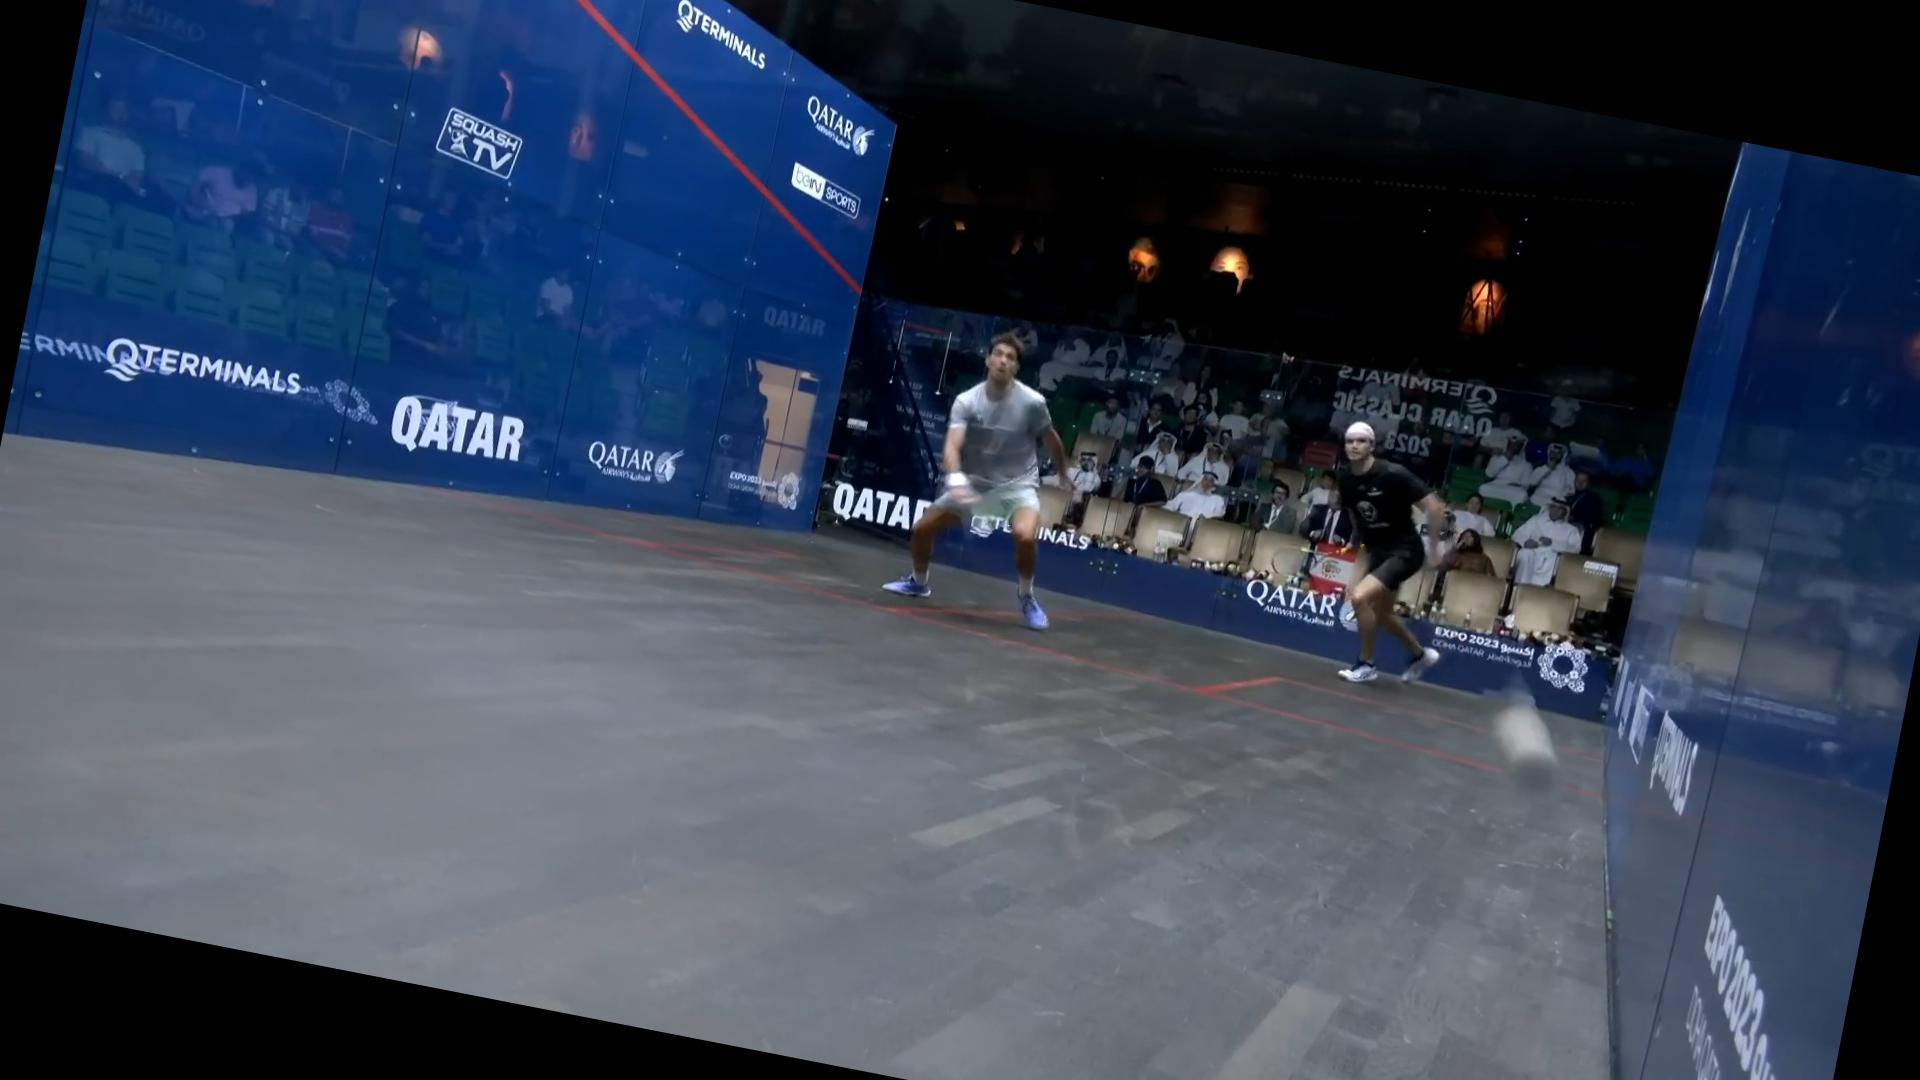Racket: (1258, 535, 1340, 592)
